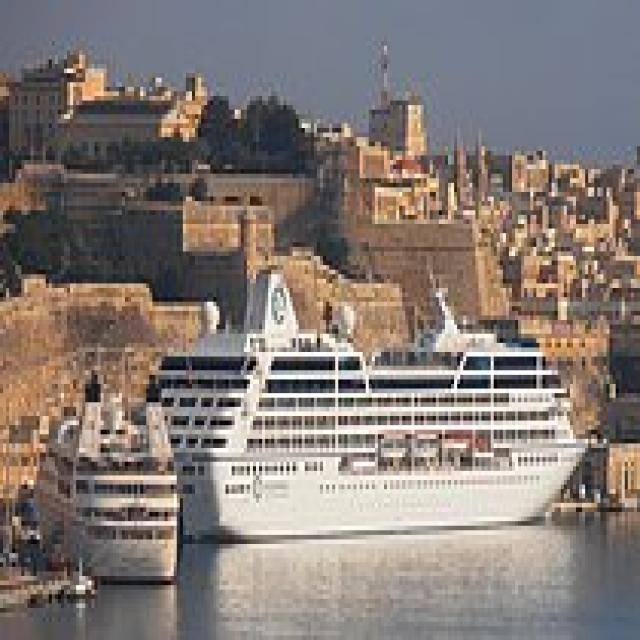Ship: (142, 262, 602, 559), (31, 362, 190, 591)
